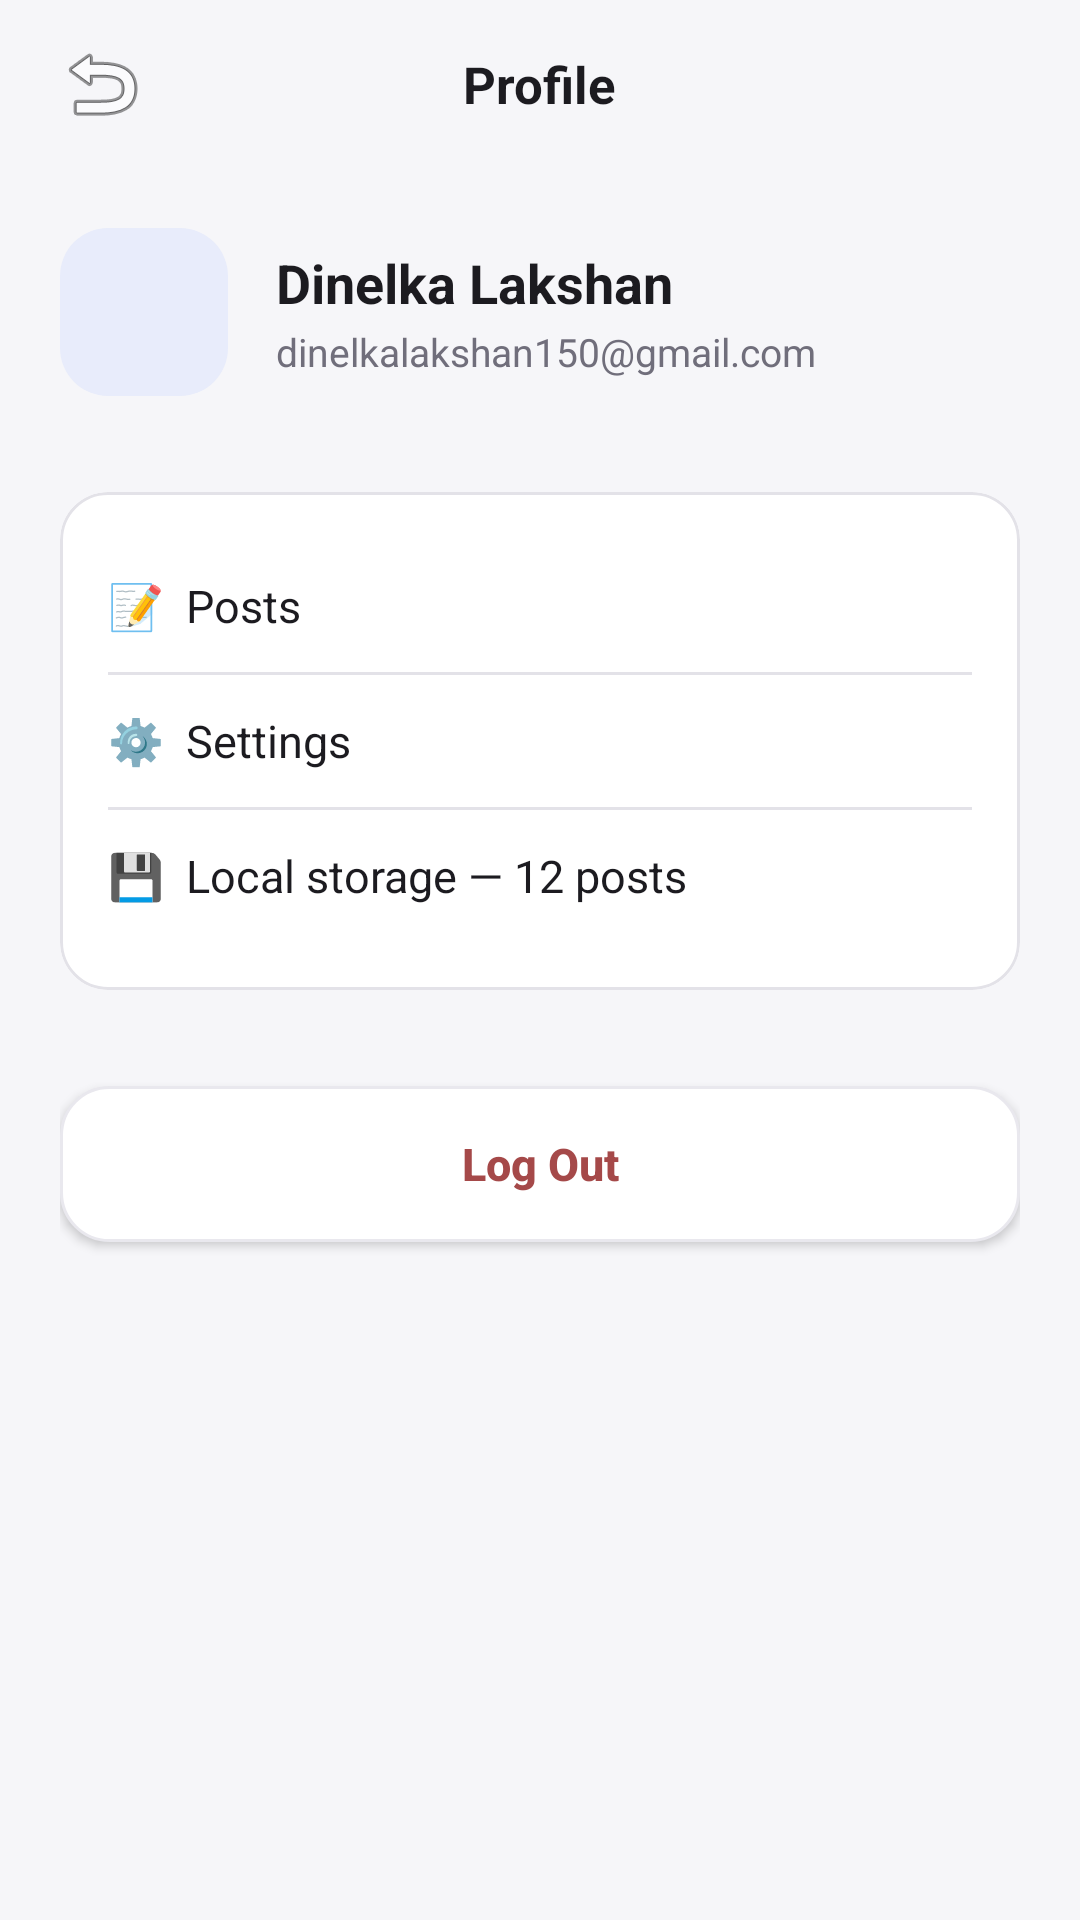

Where icons sit on this 1080w x 1920h app screen, as (x1, y1, x2, y2):
revert: (69, 53, 138, 116)
